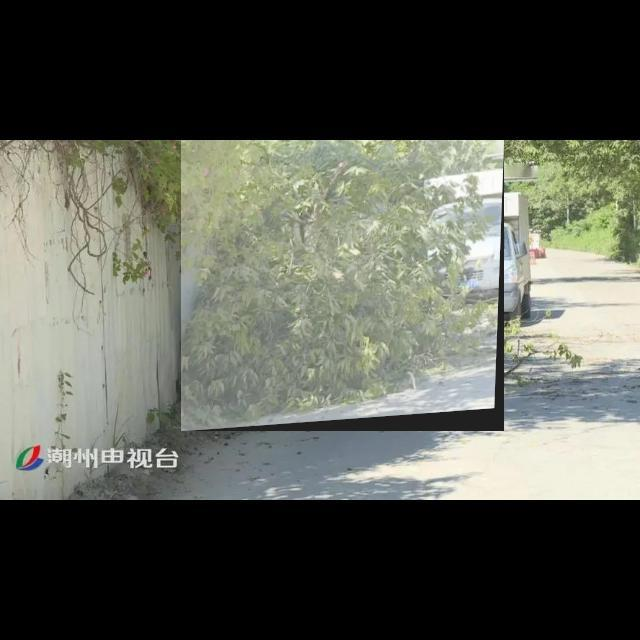fallen_tree: (181, 140, 505, 432)
